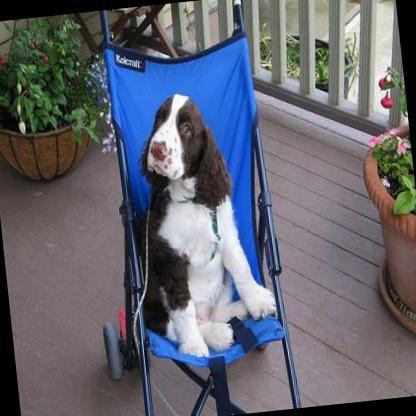English_springer: (112, 78, 284, 364)
